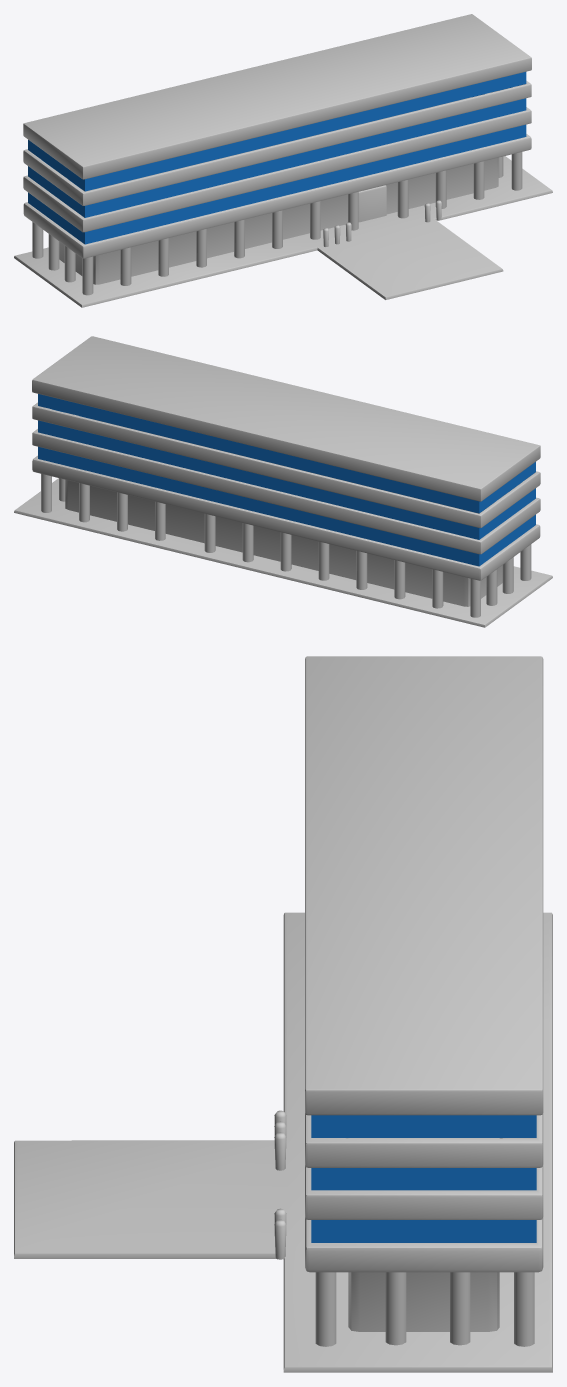
File: empresas.fbx
The picture shows the model from 3 angles, top to bottom: view 1: azimuth 30°, elevation 25°; view 2: azimuth 150°, elevation 25°; view 3: azimuth 270°, elevation 25°; orthographic projection. The views are drawn at different scales.
Parts seen in each view (by area): view 1: Edificio_4, ventanas002; view 2: Edificio_4, ventanas002; view 3: Edificio_4, ventanas002.
Boxes of the visible parts, x1,y1,x2,y2 form: Edificio_4: [14, 14, 552, 307]; ventanas002: [28, 72, 526, 244]; Edificio_4: [14, 336, 552, 627]; ventanas002: [38, 394, 535, 566]; Edificio_4: [14, 656, 552, 1372]; ventanas002: [311, 1115, 536, 1242].
Size of the model in its own units: 400 by 110 by 200.
